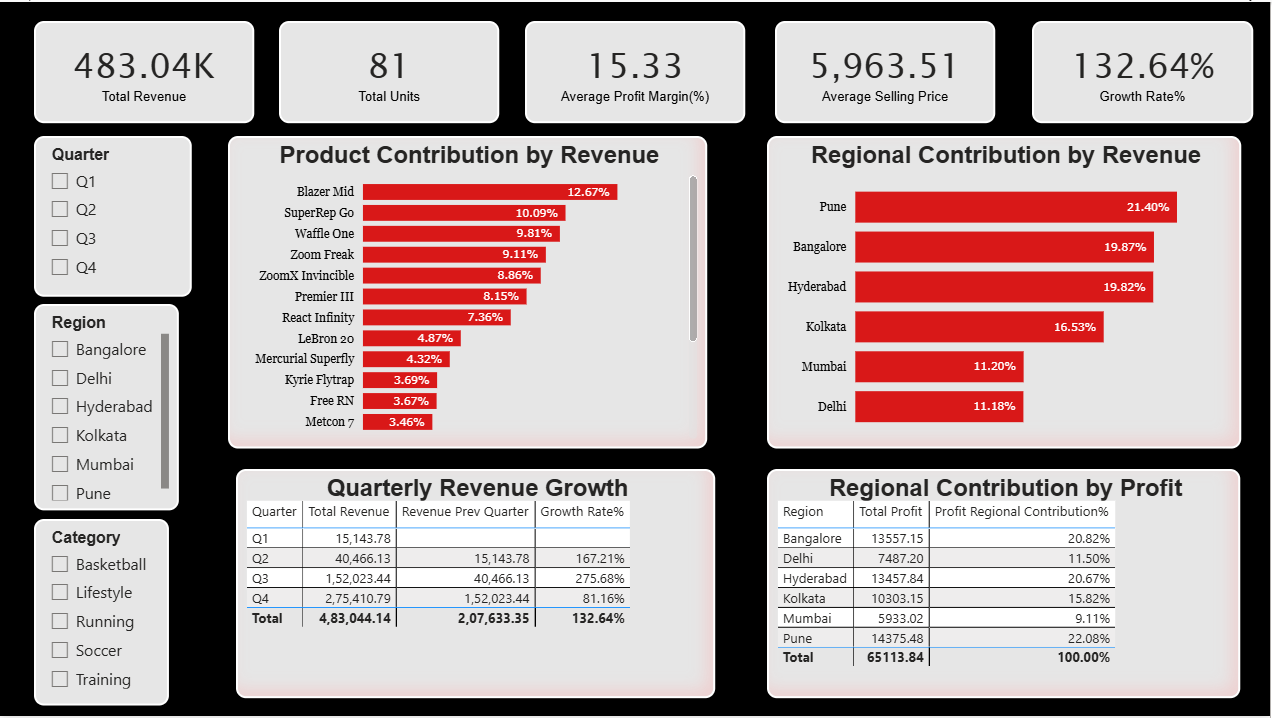

This screenshot's page, from the dashboard's own definition file:
{"tool":"powerbi","page":{"name":"Performance drivers","canvas":[1280,720],"ordinal":1},"visuals":[{"type":"slicer","fields":{"Values":["Nike_Sales.Region"]},"box":[34.3,304.4,146.1,207.6],"z":0},{"type":"tableEx","title":"Regional Contribution by Profit","fields":{"Values":["Nike_Sales.Region","Sum(Nike_Sales.Profit)","Measures (2).pro_Region_Contribution%"]},"box":[773,470.7,476.7,230.8],"z":1000},{"type":"slicer","fields":{"Values":["Calendar.Quarter"]},"box":[34.3,135.1,159.2,162.3],"z":2000},{"type":"clusteredBarChart","title":"Regional Contribution by Revenue","fields":{"Category":["Nike_Sales.Region"],"Y":["Measures (2).Region_Contribution%"]},"box":[773,135.1,477.7,315.5],"z":3000},{"type":"clusteredBarChart","title":"Product Contribution by Revenue","fields":{"Category":["Nike_Sales.Product_Name"],"Y":["Measures (2).Product_Contribution%"]},"box":[229.8,135.1,482.8,315.5],"z":4000},{"type":"tableEx","title":"Quarterly Revenue Growth","fields":{"Values":["Calendar.Quarter","Measures (2).Total_Revenue","Measures (2).Revenue Prev Qtr","Measures (2).Revenue Growth %"]},"box":[237.9,470.7,482.8,230.8],"z":5000},{"type":"card","fields":{"Values":["Measures (2).Total_Revenue"]},"box":[34.3,19.1,222,102.8],"z":6000},{"type":"card","fields":{"Values":["Measures (2).Total_Units"]},"box":[281.2,19.1,222,102.8],"z":7000},{"type":"card","fields":{"Values":["Avg(Nike_Sales.Profit Margin(%))"]},"box":[529.1,19.1,222,102.8],"z":8000},{"type":"card","fields":{"Values":["Measures (2).avg_selling_price"]},"box":[781.1,19.1,222,102.8],"z":9000},{"type":"card","fields":{"Values":["Measures (2).Revenue Growth %"]},"box":[1040.1,19.1,222.7,102.8],"z":10000},{"type":"slicer","fields":{"Values":["Nike_Sales.Product_Category"]},"box":[34.3,521.1,136.1,188.5],"z":11000}]}

Visuals, with their boxes in screenshot pixels (x1, y1, x2, y2), scaled from the page's 1280x720 canvas onto the 1272x718 screenshot:
slicer - Nike_Sales.Region: bbox=[34, 304, 179, 511]
"Regional Contribution by Profit" tableEx: bbox=[768, 469, 1242, 700]
slicer - Calendar.Quarter: bbox=[34, 135, 192, 297]
"Regional Contribution by Revenue" clusteredBarChart: bbox=[768, 135, 1243, 449]
"Product Contribution by Revenue" clusteredBarChart: bbox=[228, 135, 708, 449]
"Quarterly Revenue Growth" tableEx: bbox=[236, 469, 716, 700]
card - Measures (2).Total_Revenue: bbox=[34, 19, 255, 122]
card - Measures (2).Total_Units: bbox=[279, 19, 500, 122]
card - Avg(Nike_Sales.Profit Margin(%)): bbox=[526, 19, 746, 122]
card - Measures (2).avg_selling_price: bbox=[776, 19, 997, 122]
card - Measures (2).Revenue Growth %: bbox=[1034, 19, 1255, 122]
slicer - Nike_Sales.Product_Category: bbox=[34, 520, 169, 708]
